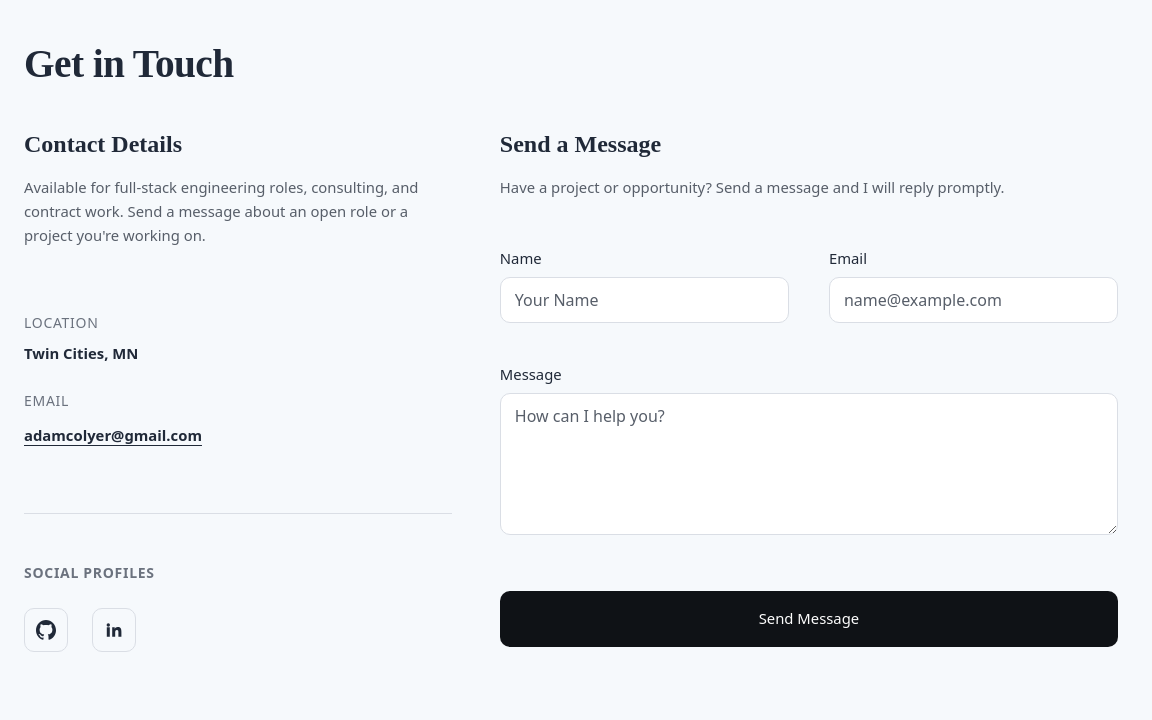
Test: Contact form › keeps the input and offers a mailto link when sending fails
Type "QA Tester" into the field labelled "Name". click: (644, 300)
box: [500,277,789,323]
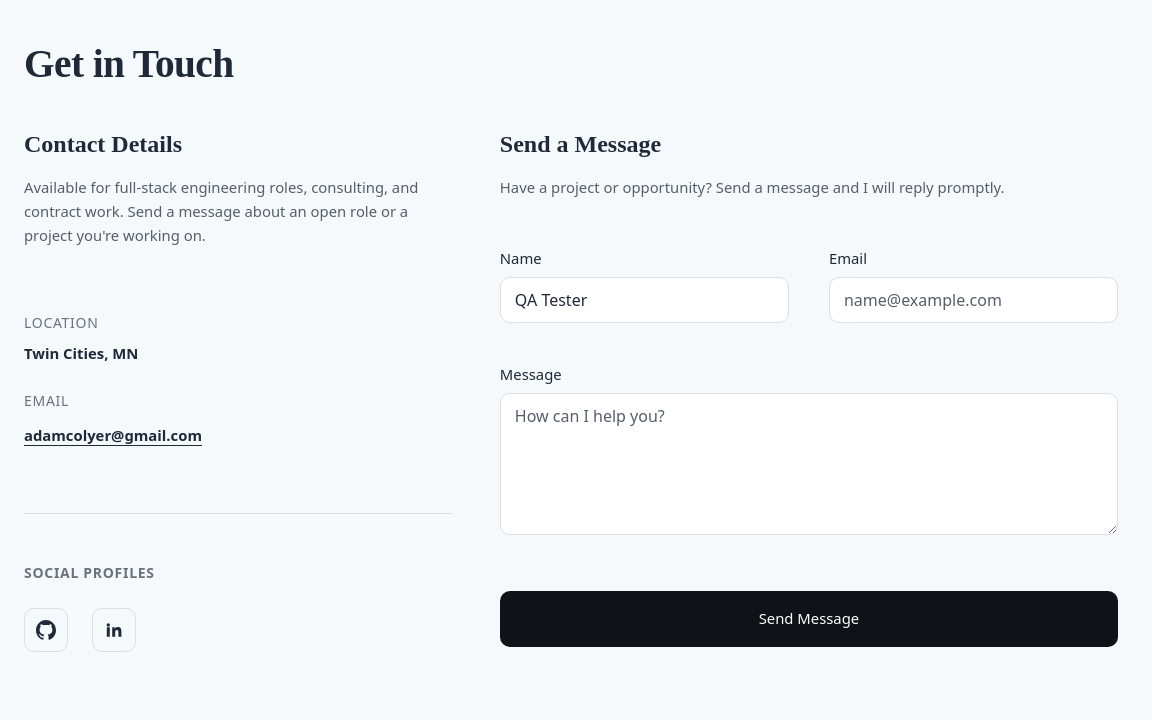
Type "qa@example.com" into the field labelled "Email". click: (973, 300)
box: [829,277,1118,323]
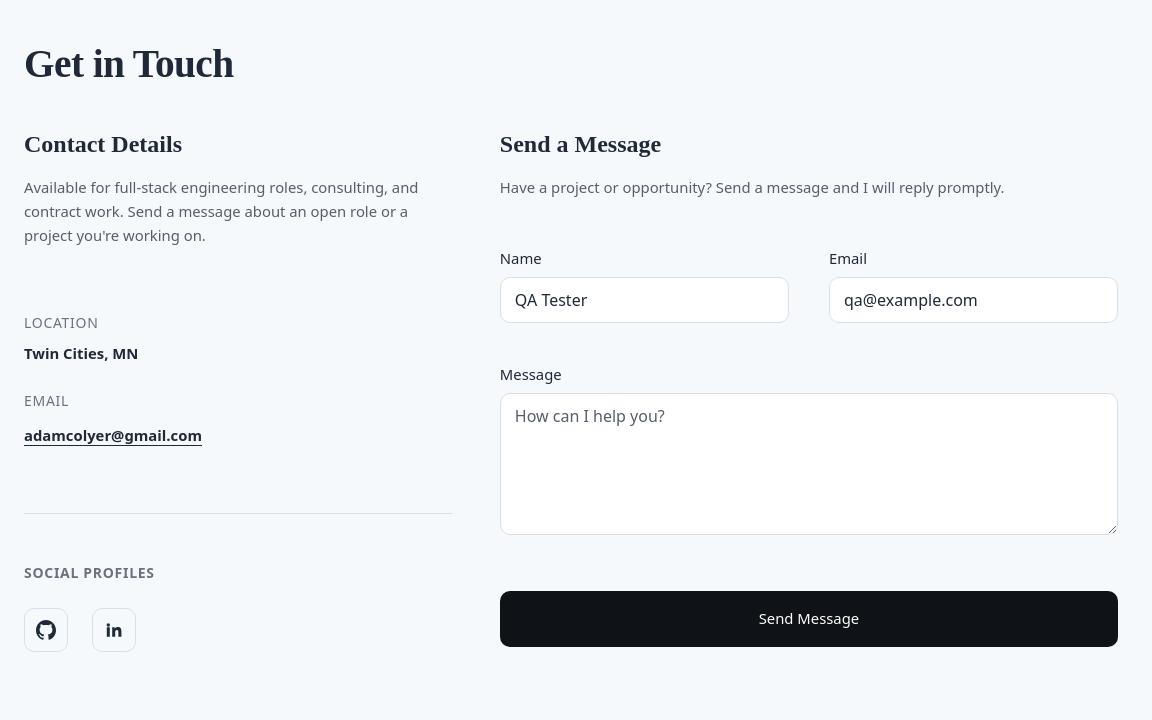
Type "Hello, I would like to talk about a role." into the text box labelled "Message". click: (809, 464)
box: [500,393,1118,535]
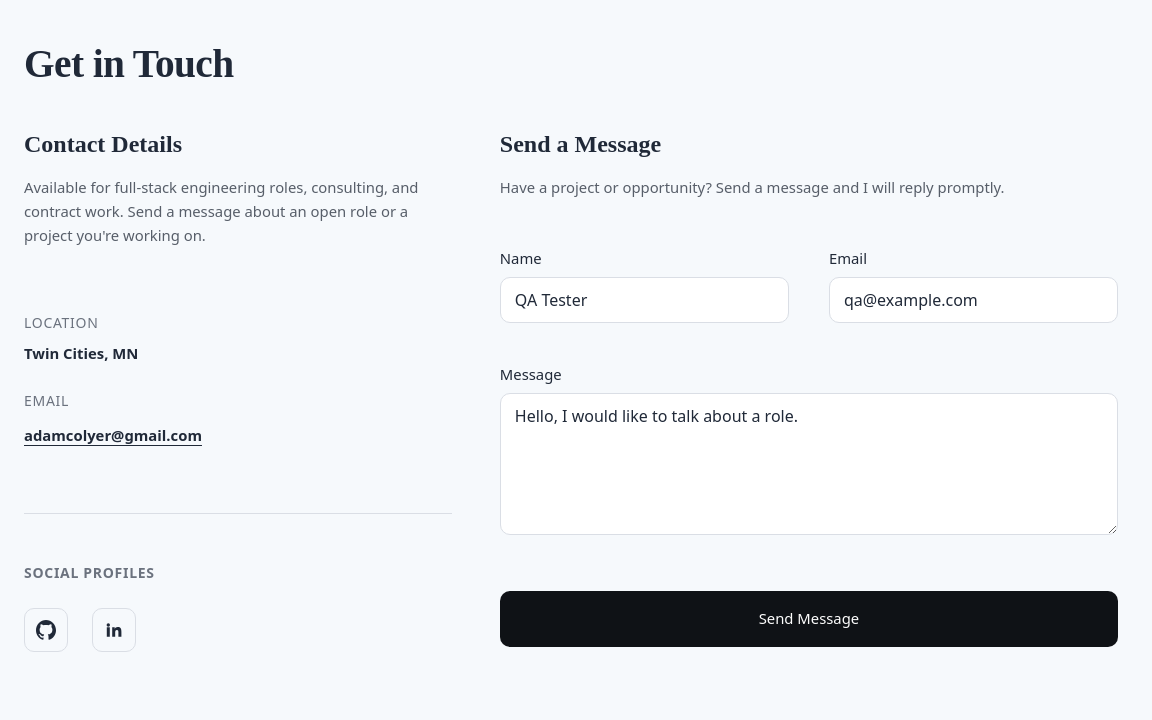
Click the submit button. click: (809, 619)
box: [500,591,1118,647]
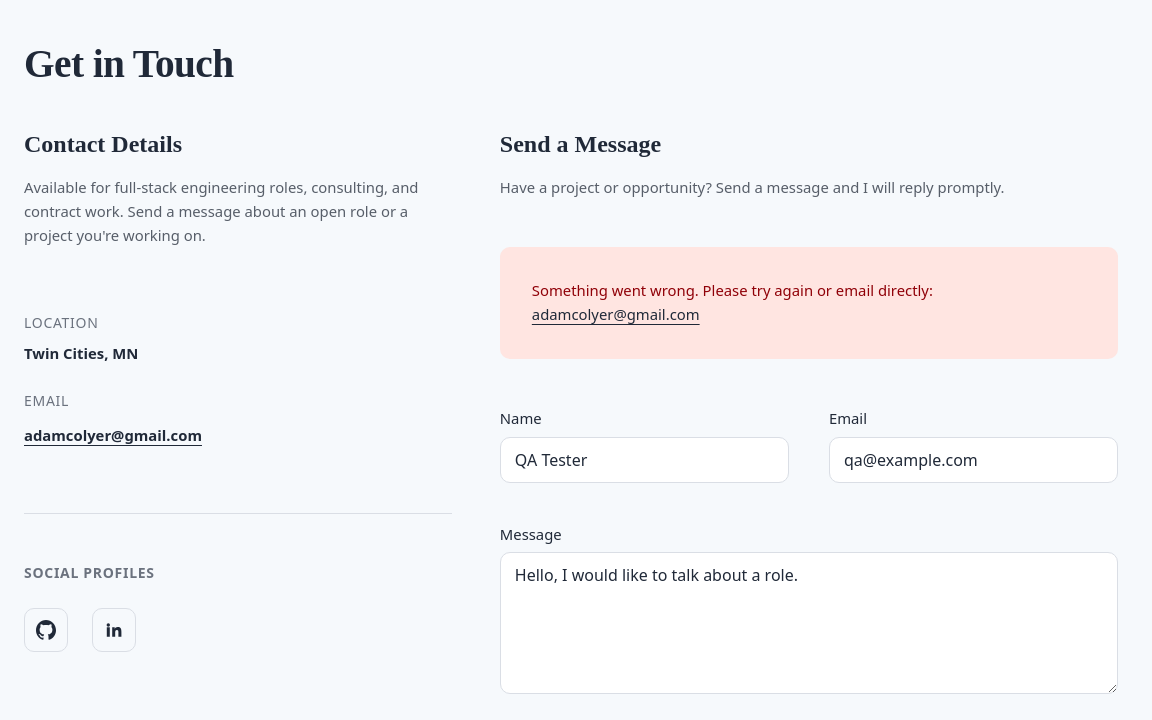
Result: the message shows "Something went wrong" at [532,280,933,300]
Result: the link to "mailto:adamcolyer@gmail.com" is shown at [532,304,700,324]
